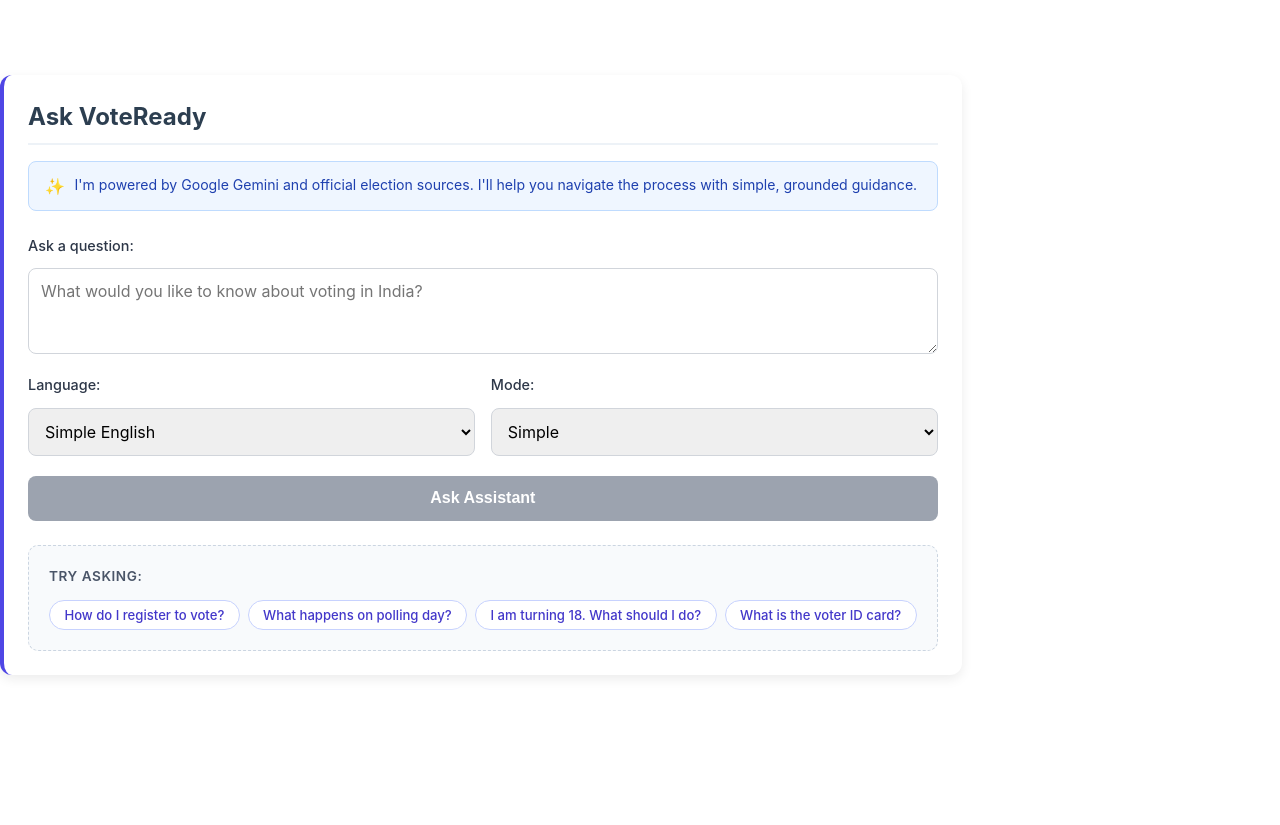
AssistantShell › shows follow-up chips after a response is received
The width and height of the screenshot is (1280, 825).
Type "How do I register to vote?" into the text box labelled "Ask a question:" at [483, 311], box [28,268,938,354]
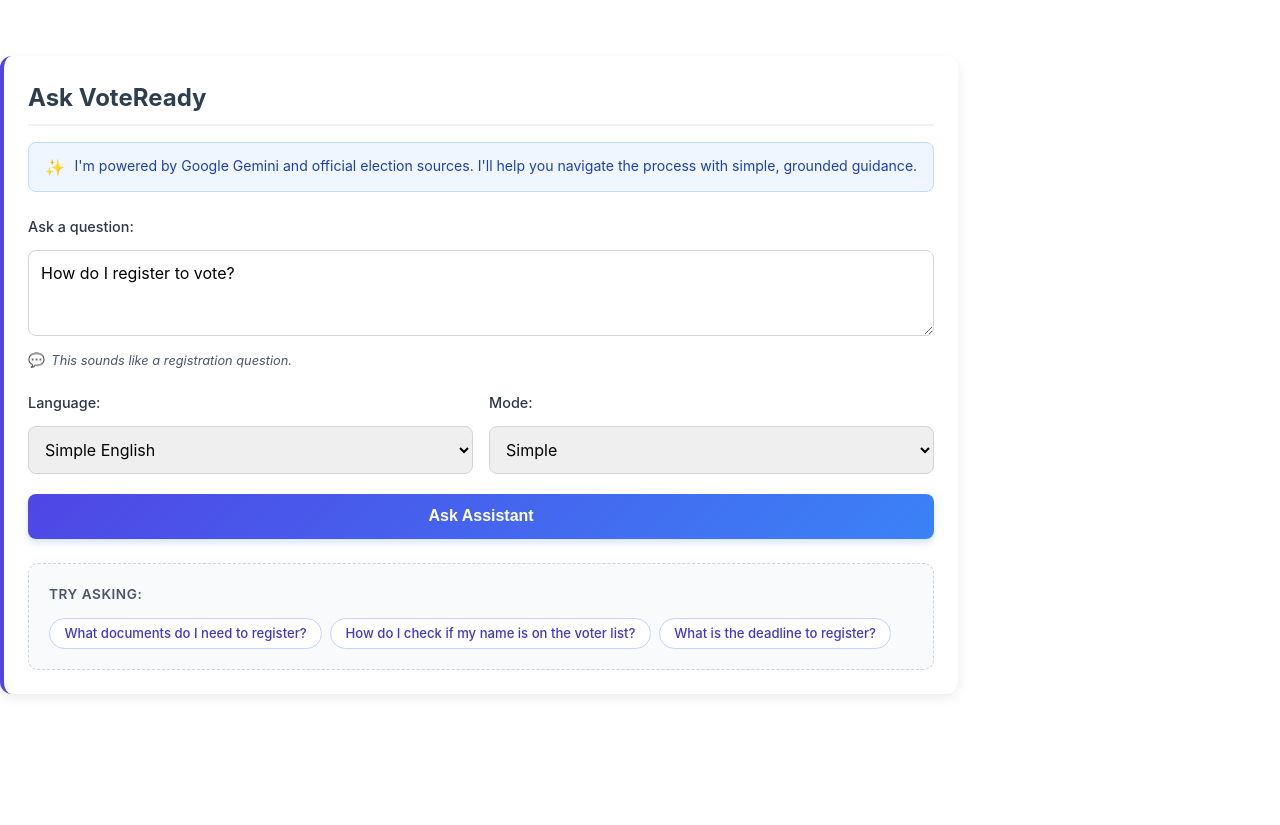
Click the button "Ask Assistant" at [481, 516], box [28,494,934,539]
(page scrolled)
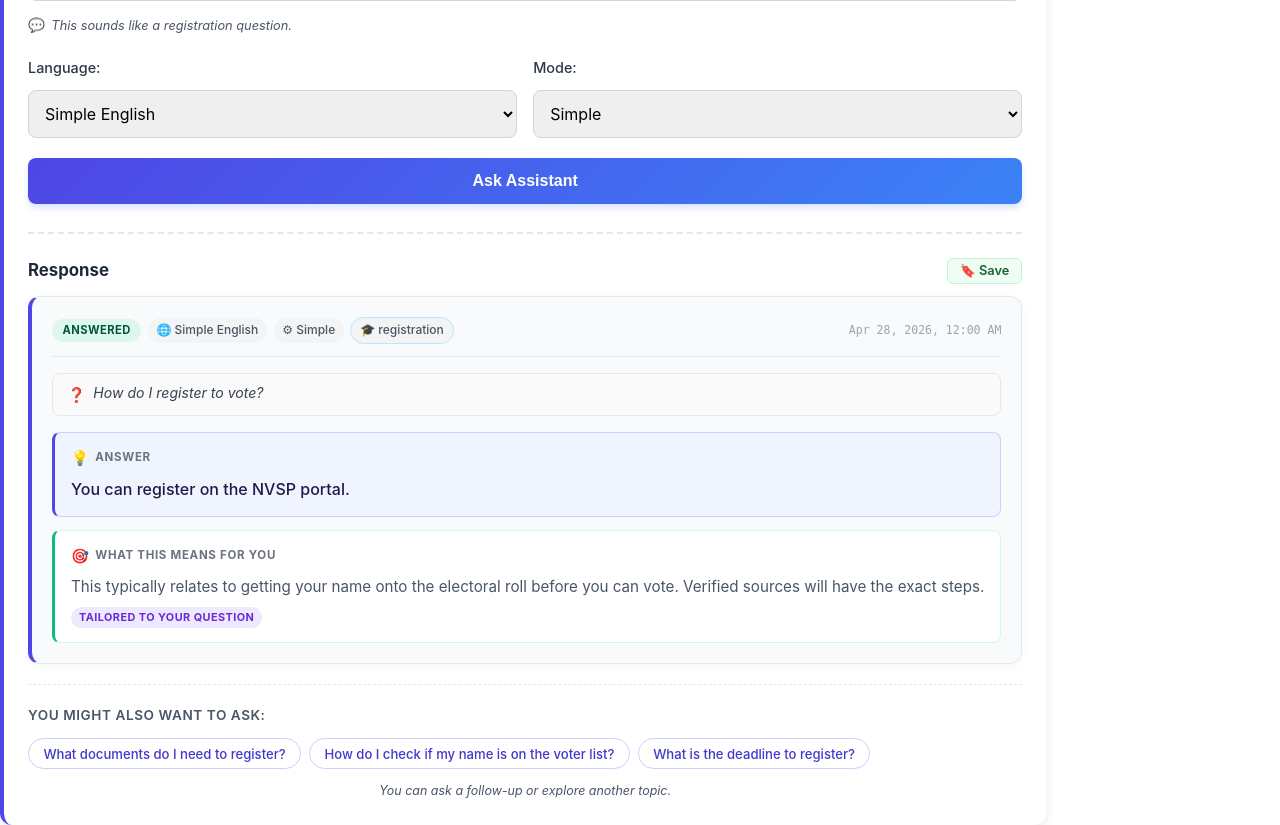
expect the text "You can register on the NVSP portal." is shown: met, box [71,478,350,498]
expect the text "You might also want to ask:" is shown: met, box [28,706,266,722]
expect the element named "follow-up questions" is shown: met, box [28,738,870,769]
